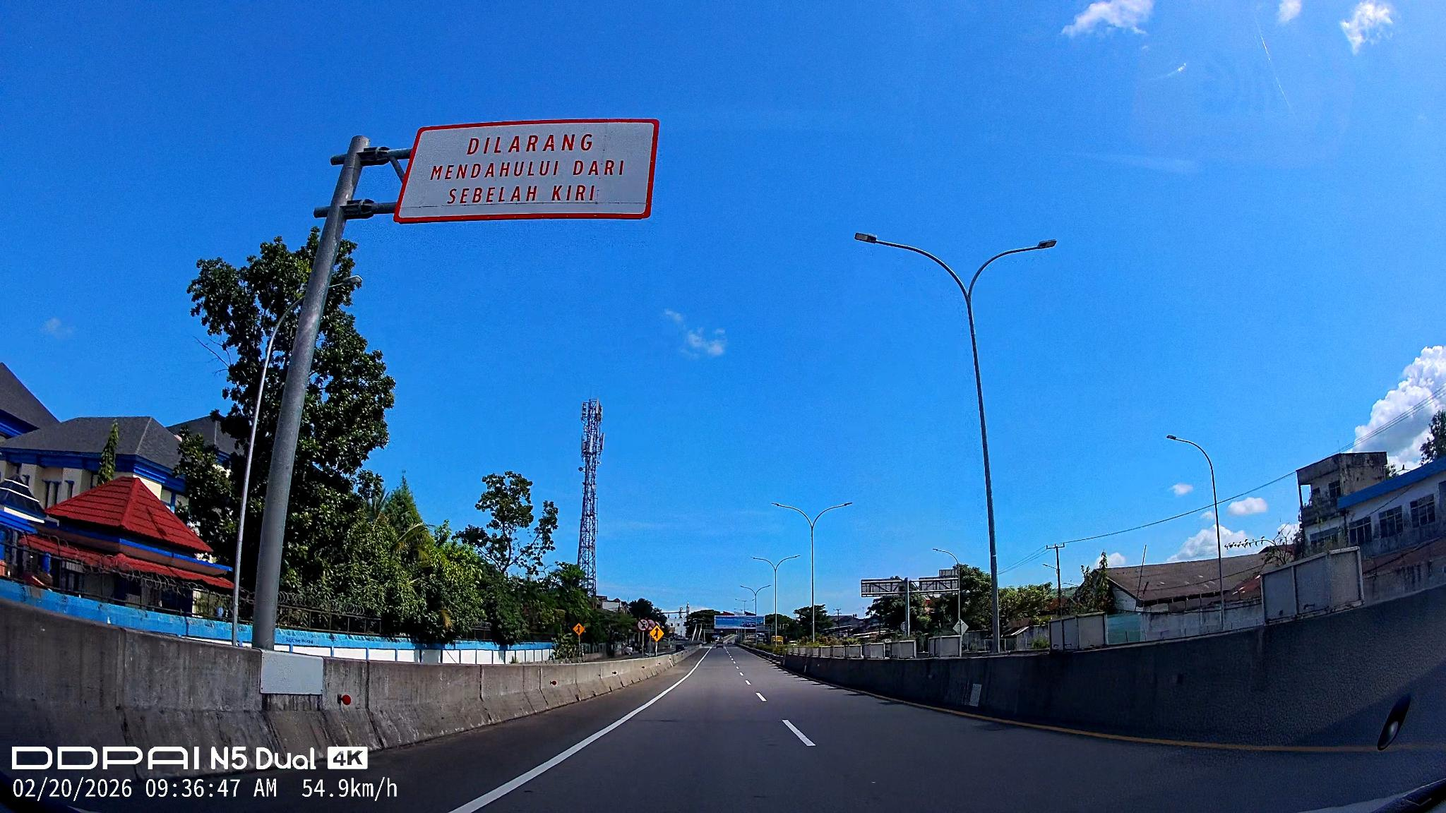rambu_teks: (392, 116, 662, 224)
